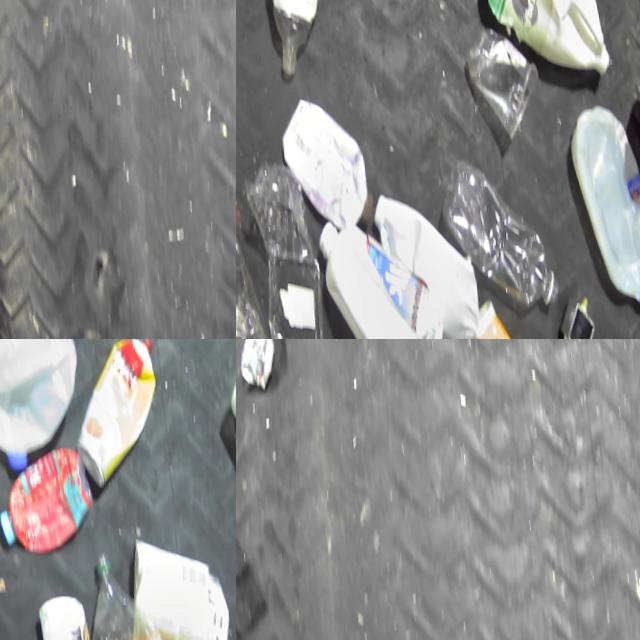milk_jug: (359, 183, 479, 339), (561, 86, 640, 302), (304, 217, 437, 339), (0, 339, 83, 469), (236, 339, 275, 389)
non_white_jug: (468, 0, 608, 76)
plastic_bottle: (437, 155, 551, 300), (72, 541, 188, 640)
